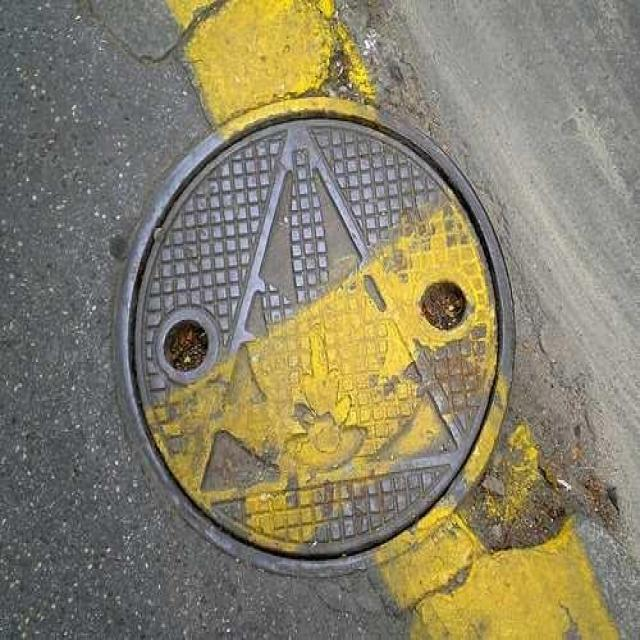manhole: (110, 110, 512, 566)
